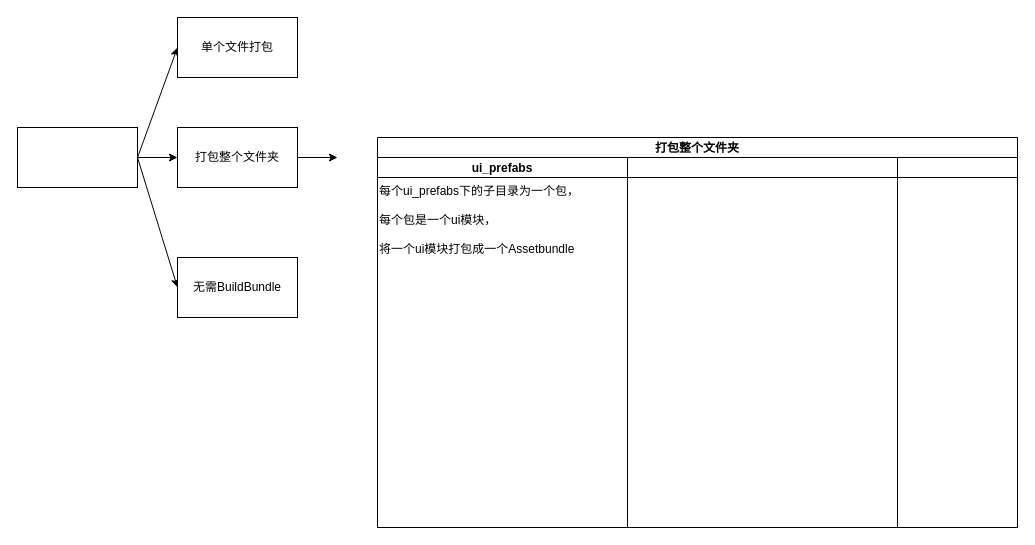
Image size: 1035x545. Some labels were removed from this diagram. The shapes that lost their labels are listed below. From the top down, each one's centre as x and y in pixels, then its label:
At (77,157): "打包 AssetBundle".
At (762,342): "Lane 2".
At (957,342): "Lane 3".
